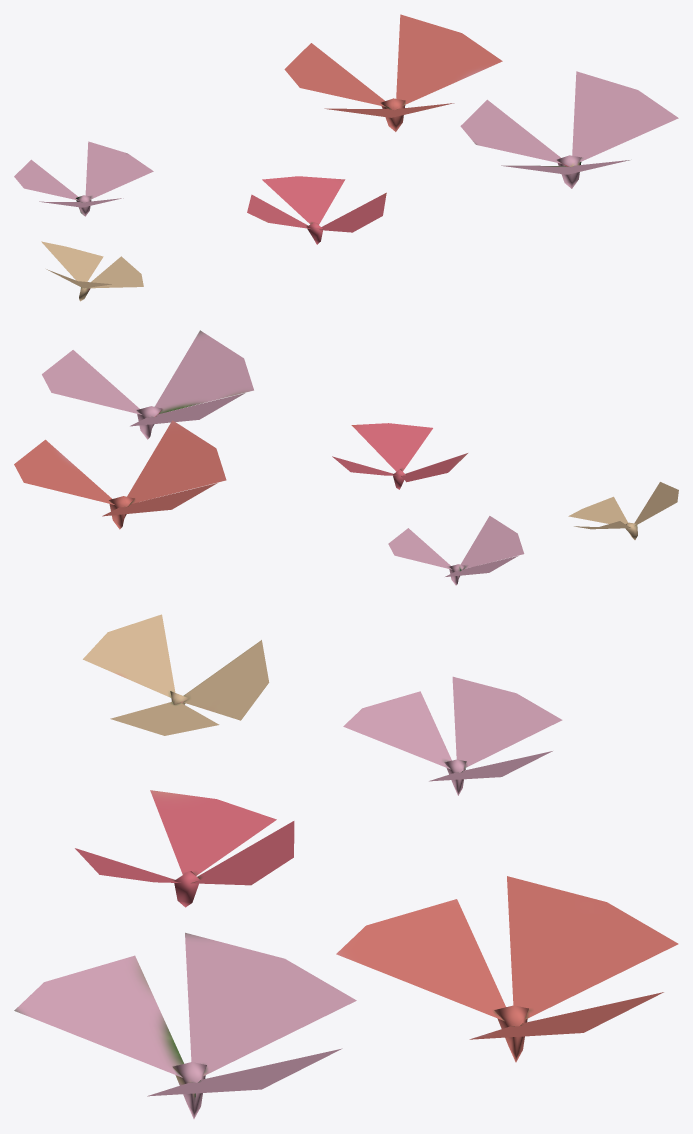
File: SM_Tree_And_Bushes.fbx_SM_Bush_18.fbx
3 renders of one model, top to bottom at view 1: azimuth 30°, elevation 25°; view 2: azimuth 150°, elevation 25°; view 3: azimuth 270°, elevation 25°, orthographic. The views are drawn at different scales.
Parts seen in each view (by area): view 1: SM_Tree_28; view 2: SM_Tree_28; view 3: SM_Tree_28.
Part boxes in pixels (x1,y1,x2,y2): SM_Tree_28: (14,14,678,301); SM_Tree_28: (14,330,678,585); SM_Tree_28: (14,614,678,1118).
Bounding box in the file's own units: 2250 × 241 × 1309.
